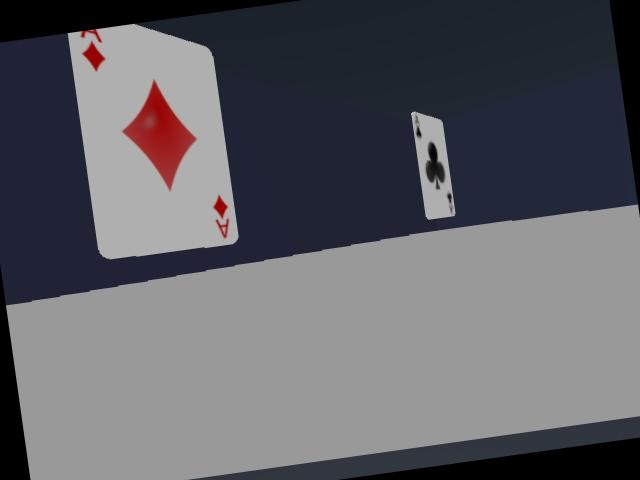club: (412, 112, 455, 219)
diamond: (69, 24, 238, 258)
